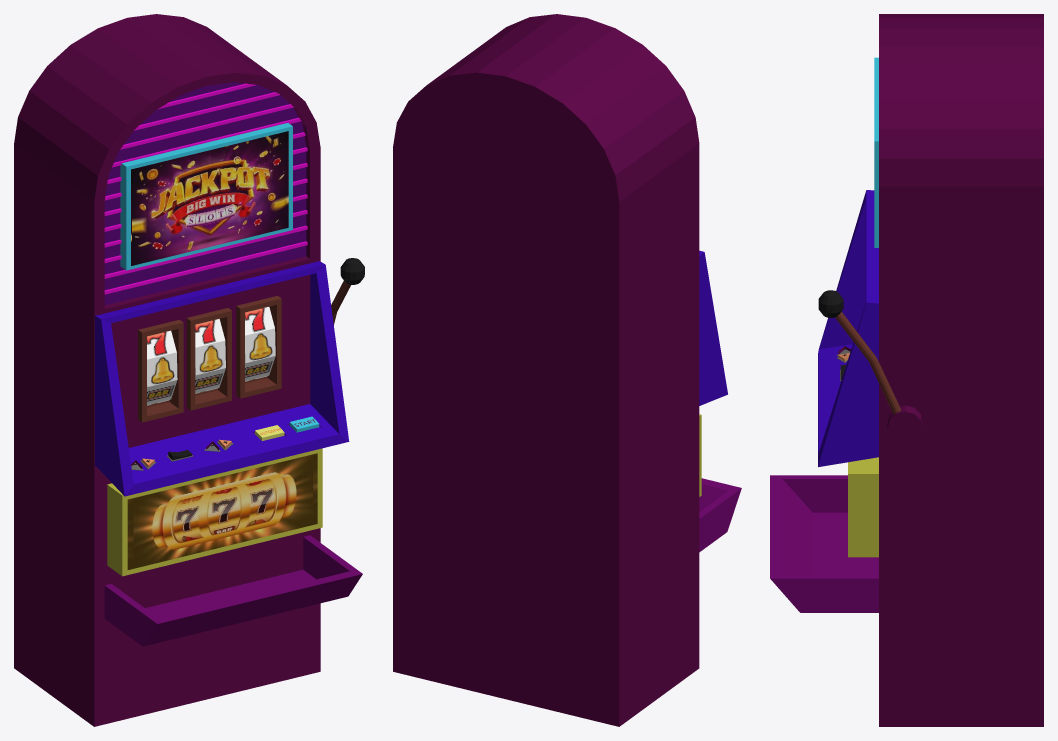
The model's file is jackpot.glb.
3 renders of one model, left to right at view 1: azimuth 30°, elevation 25°; view 2: azimuth 150°, elevation 25°; view 3: azimuth 270°, elevation 25°, orthographic. The views are drawn at different scales.
Parts seen in each view (by area): view 1: lotterymachine.003; view 2: lotterymachine.003; view 3: lotterymachine.003.
Part boxes in pixels (x1,y1,x2,y2): lotterymachine.003: [14, 14, 364, 726]; lotterymachine.003: [393, 14, 741, 726]; lotterymachine.003: [770, 14, 1043, 726].
Bounding box in the file's own units: 1.01 × 2.44 × 0.9462.
17 materials, 5 textured.
